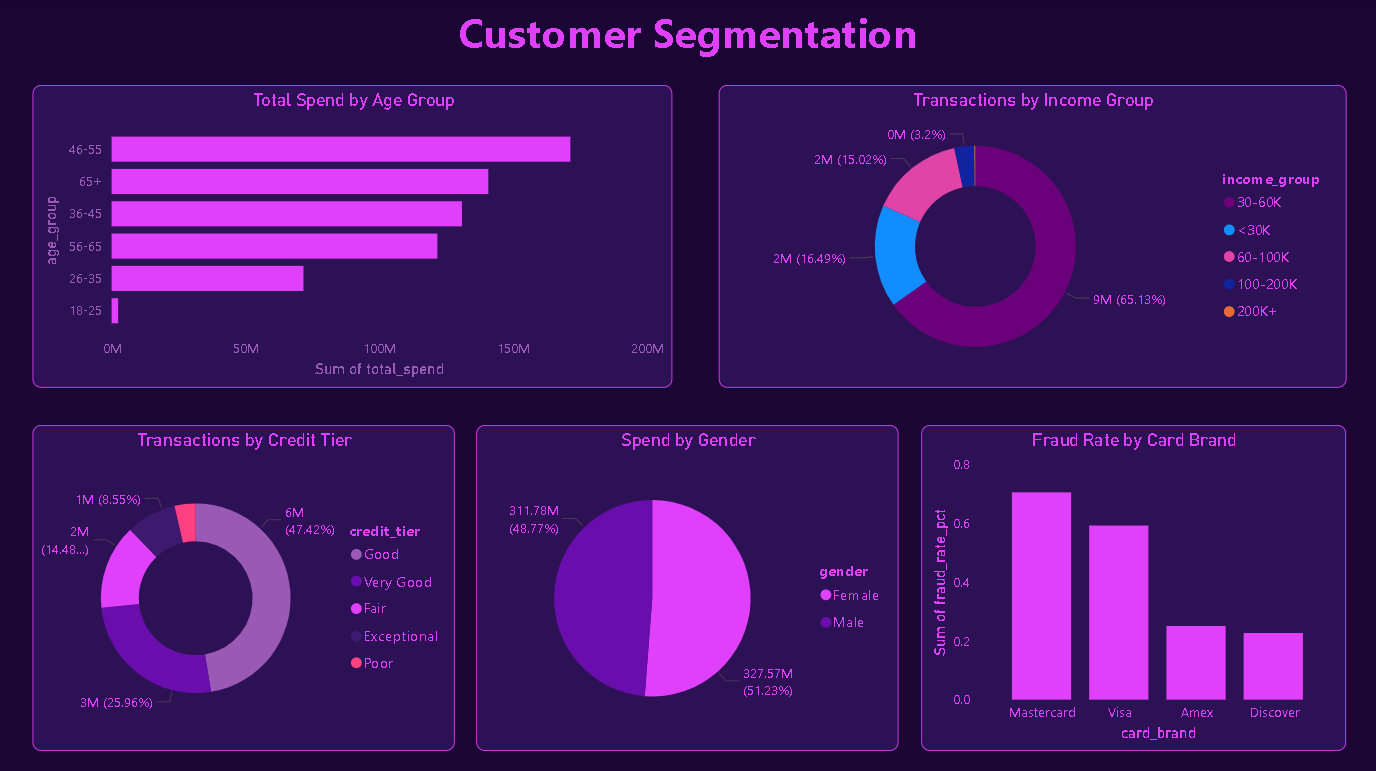

The page's visual inventory and layout, read from the dashboard file:
{"tool":"powerbi","page":{"name":"Customer Segmentation","canvas":[1280,720],"ordinal":2},"visuals":[{"type":"clusteredBarChart","title":"Total Spend by Age Group","fields":{"Category":["User Segments.age_group"],"Y":["Sum(User Segments.total_spend)"]},"box":[30.2,79.1,595.4,281.4],"z":0},{"type":"donutChart","title":"Transactions by Credit Tier","fields":{"Category":["User Segments.credit_tier"],"Y":["Sum(User Segments.total_txns)"]},"box":[30.2,395.3,393,303.5],"z":1000},{"type":"pieChart","title":"Spend by Gender","fields":{"Category":["User Segments.gender"],"Y":["Sum(User Segments.total_spend)"]},"box":[443,395.3,393,303.5],"z":2000},{"type":"donutChart","title":"Transactions by Income Group","fields":{"Category":["User Segments.income_group"],"Y":["Sum(User Segments.total_txns)"]},"box":[668.6,79.1,583.7,281.4],"z":3000},{"type":"clusteredColumnChart","title":"Fraud Rate by Card Brand","fields":{"Category":["Card Analysis.card_brand"],"Y":["Sum(Card Analysis.fraud_rate_pct)"]},"box":[857,395.3,395.3,303.5],"z":4000},{"type":"textbox","box":[392.9,0,494.2,62.8],"z":4001}]}

Visuals, with their boxes in screenshot pixels (x1, y1, x2, y2), scaled from the page's 1280x720 canvas onto the 1376x771 screenshot:
"Total Spend by Age Group" clusteredBarChart: {"left": 32, "top": 85, "right": 673, "bottom": 386}
"Transactions by Credit Tier" donutChart: {"left": 32, "top": 423, "right": 455, "bottom": 748}
"Spend by Gender" pieChart: {"left": 476, "top": 423, "right": 899, "bottom": 748}
"Transactions by Income Group" donutChart: {"left": 719, "top": 85, "right": 1346, "bottom": 386}
"Fraud Rate by Card Brand" clusteredColumnChart: {"left": 921, "top": 423, "right": 1346, "bottom": 748}
textbox: {"left": 422, "top": 0, "right": 954, "bottom": 67}
